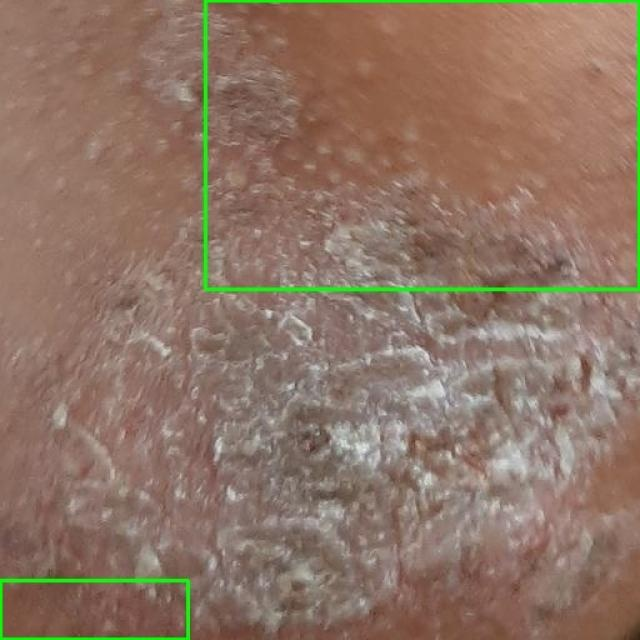Contact Dermatitis: (205, 0, 639, 289), (0, 580, 189, 639)
